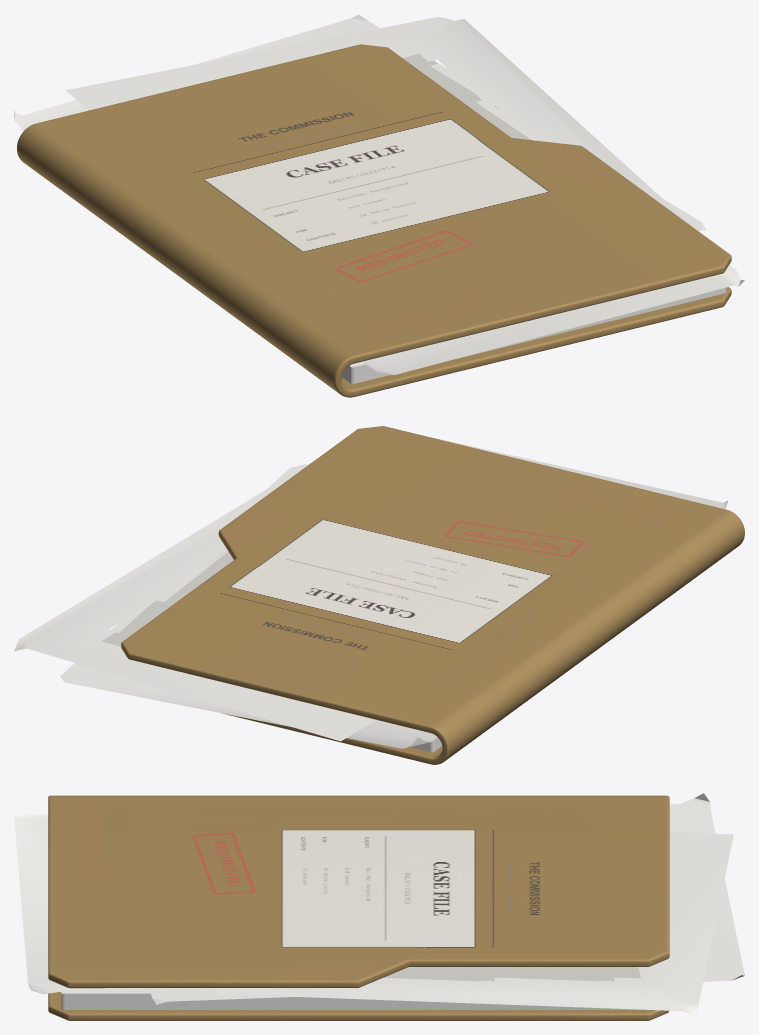
The model's file is casefile.glb.
The picture shows the model from 3 angles, top to bottom: view 1: azimuth 30°, elevation 25°; view 2: azimuth 150°, elevation 25°; view 3: azimuth 270°, elevation 25°; orthographic projection. The views are drawn at different scales.
Parts seen in each view (by area): view 1: CF_Folder, CF_PageEdge_2.CF, CF_PageEdge_3.CF, CF_PageEdge_1.CF, CF_Page_01, CF_PaperStack_Edges.CF; view 2: CF_Folder, CF_PageEdge_2.CF, CF_PageEdge_1.CF, CF_Page_01, CF_PageEdge_3.CF; view 3: CF_Folder, CF_PageEdge_2.CF, CF_PaperStack_Edges.CF, CF_PageEdge_3.CF, CF_PageEdge_1.CF, CF_Page_01.
Boxes of the visible parts, bbox=[...] form: CF_Folder: bbox=[17, 44, 731, 397]; CF_PageEdge_2.CF: bbox=[66, 17, 698, 231]; CF_PageEdge_3.CF: bbox=[362, 100, 744, 374]; CF_PageEdge_1.CF: bbox=[14, 14, 706, 230]; CF_Page_01: bbox=[403, 53, 531, 140]; CF_PaperStack_Edges.CF: bbox=[342, 287, 726, 384]; CF_Folder: bbox=[121, 426, 744, 764]; CF_PageEdge_2.CF: bbox=[14, 460, 376, 741]; CF_PageEdge_1.CF: bbox=[60, 464, 436, 748]; CF_Page_01: bbox=[101, 551, 233, 646]; CF_PageEdge_3.CF: bbox=[157, 433, 727, 601]; CF_Folder: bbox=[48, 795, 669, 1020]; CF_PageEdge_2.CF: bbox=[104, 832, 733, 1016]; CF_PaperStack_Edges.CF: bbox=[61, 991, 645, 1009]; CF_PageEdge_3.CF: bbox=[14, 813, 494, 994]; CF_PageEdge_1.CF: bbox=[151, 793, 744, 1004]; CF_Page_01: bbox=[374, 967, 640, 981].
Bounding box in the file's own units: 0.2549 × 0.0235 × 0.3647.
3 materials, 1 textured.
